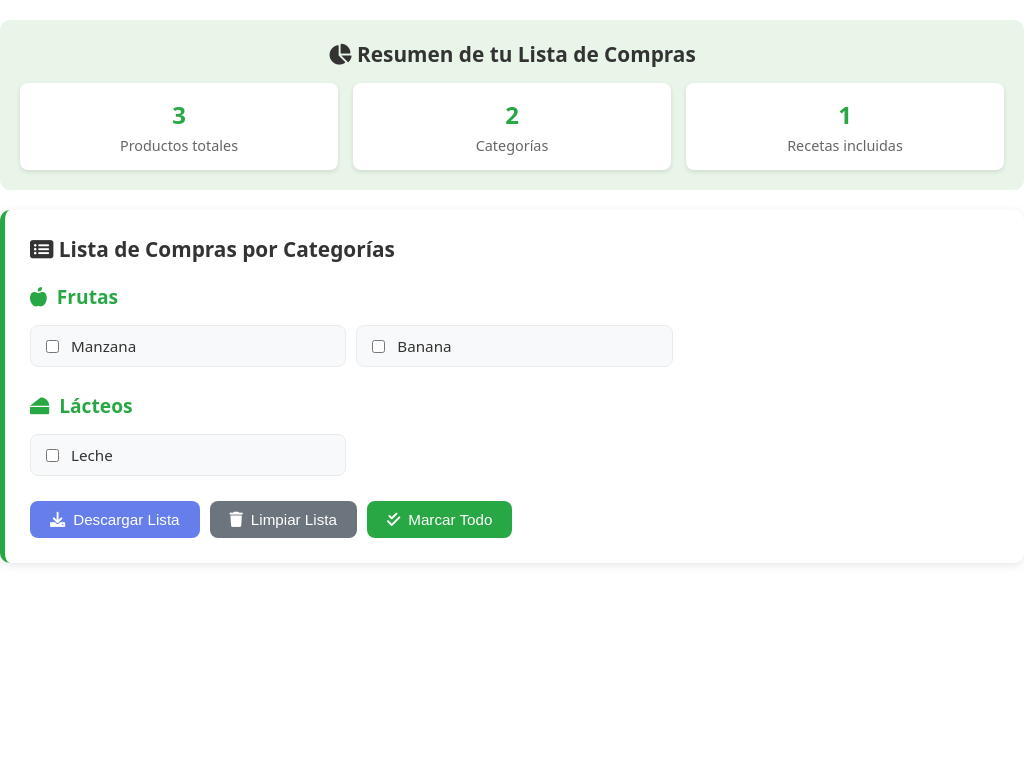
it: Integración: ShoppingListResult.vue › debe marcar todos los ítems al hacer clic en el botón 'Marcar Todo'
Click the button with class "success" at (440, 520), box x1=367 y1=501 x2=512 y2=538
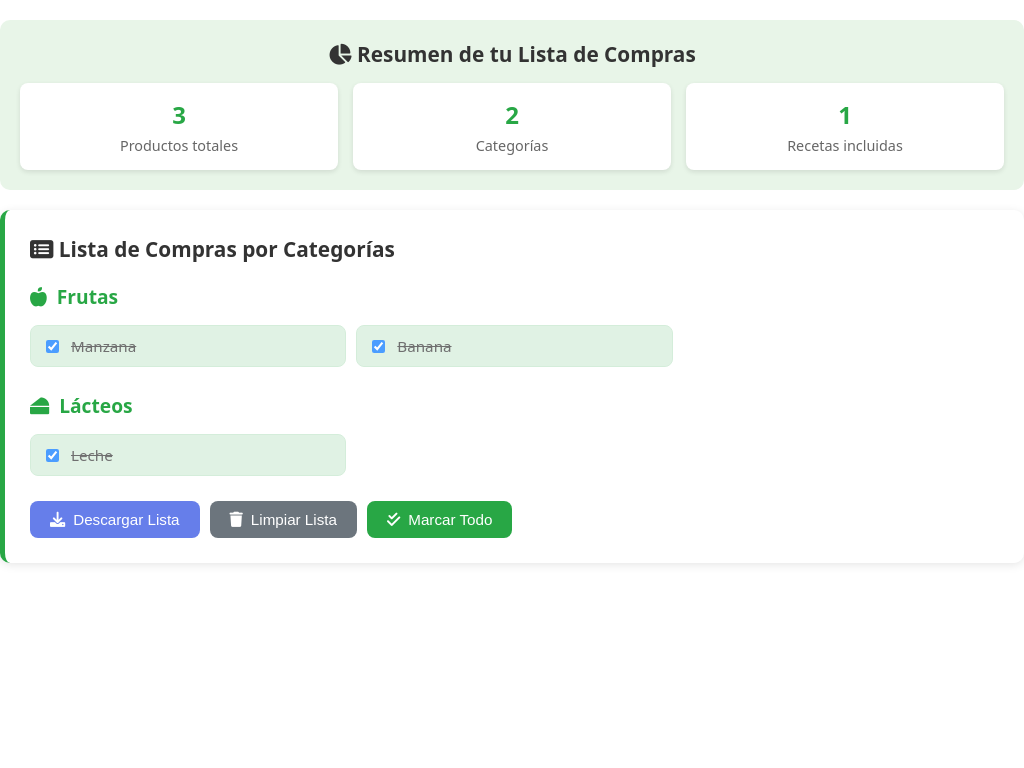
Expected: the checkbox next to "Manzana" is checked, x1=46 y1=340 x2=59 y2=352
Expected: the checkbox next to "Banana" is checked, x1=372 y1=340 x2=385 y2=352
Expected: the checkbox next to "Leche" is checked, x1=46 y1=448 x2=59 y2=462
